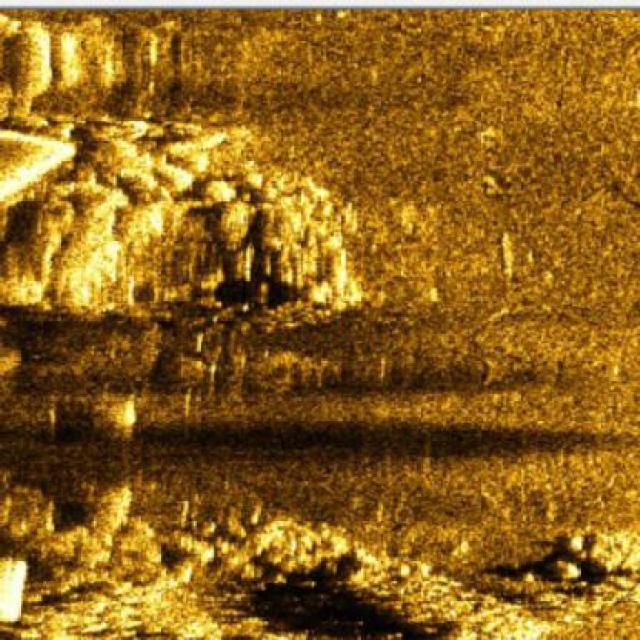bedrock group: (0, 7, 365, 322), (0, 464, 638, 638)
